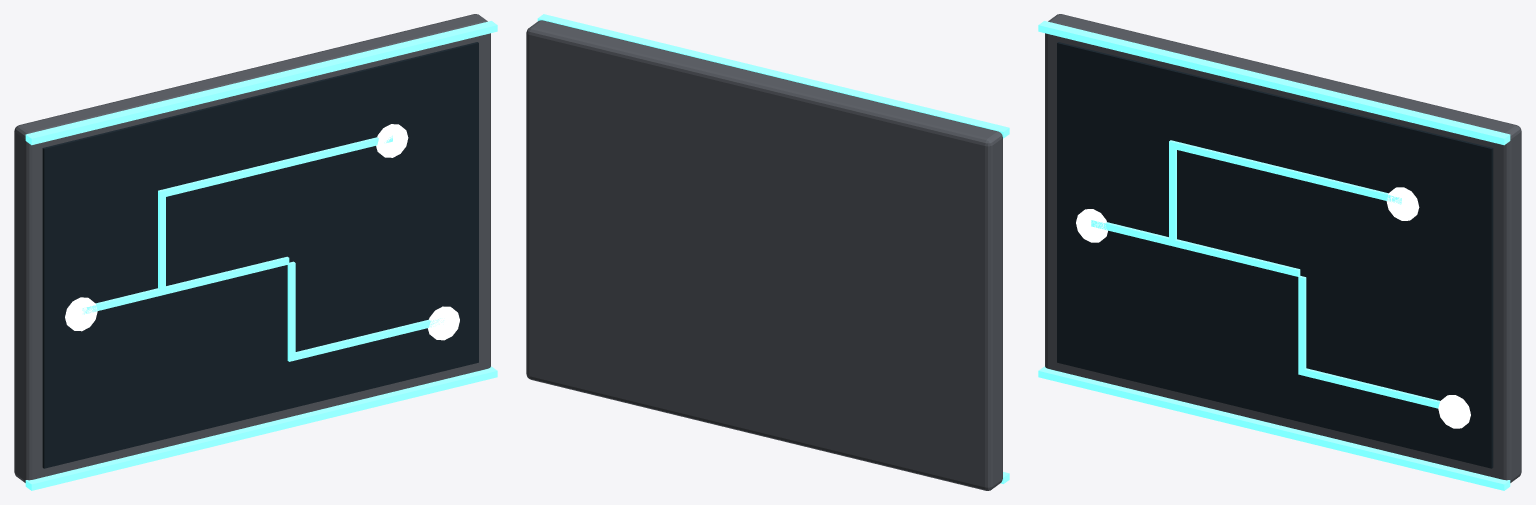
The model's file is holo_poster_circuit.glb.
3 views of the same model, side by side, from view 1: azimuth 30°, elevation 25°; view 2: azimuth 150°, elevation 25°; view 3: azimuth 330°, elevation 25° (orthographic).
Visible parts, largest first — view 1: GD_holo_poster_circuit__m1, GD_holo_poster_circuit__m0, GD_holo_poster_circuit__m3, GD_holo_poster_circuit__m2; view 2: GD_holo_poster_circuit__m0, GD_holo_poster_circuit__m3; view 3: GD_holo_poster_circuit__m1, GD_holo_poster_circuit__m0, GD_holo_poster_circuit__m3, GD_holo_poster_circuit__m2.
Boxes of the visible parts, x1,y1,x2,y2 form: GD_holo_poster_circuit__m1: (42, 42, 478, 468); GD_holo_poster_circuit__m0: (14, 14, 490, 482); GD_holo_poster_circuit__m3: (25, 21, 497, 490); GD_holo_poster_circuit__m2: (65, 124, 459, 340); GD_holo_poster_circuit__m0: (526, 20, 1002, 490); GD_holo_poster_circuit__m3: (537, 14, 1009, 483); GD_holo_poster_circuit__m1: (1057, 42, 1493, 468); GD_holo_poster_circuit__m0: (1045, 14, 1521, 482); GD_holo_poster_circuit__m3: (1038, 21, 1510, 490); GD_holo_poster_circuit__m2: (1076, 187, 1470, 428).
Bounding box in the file's own units: 0.9 × 0.65 × 0.065.
